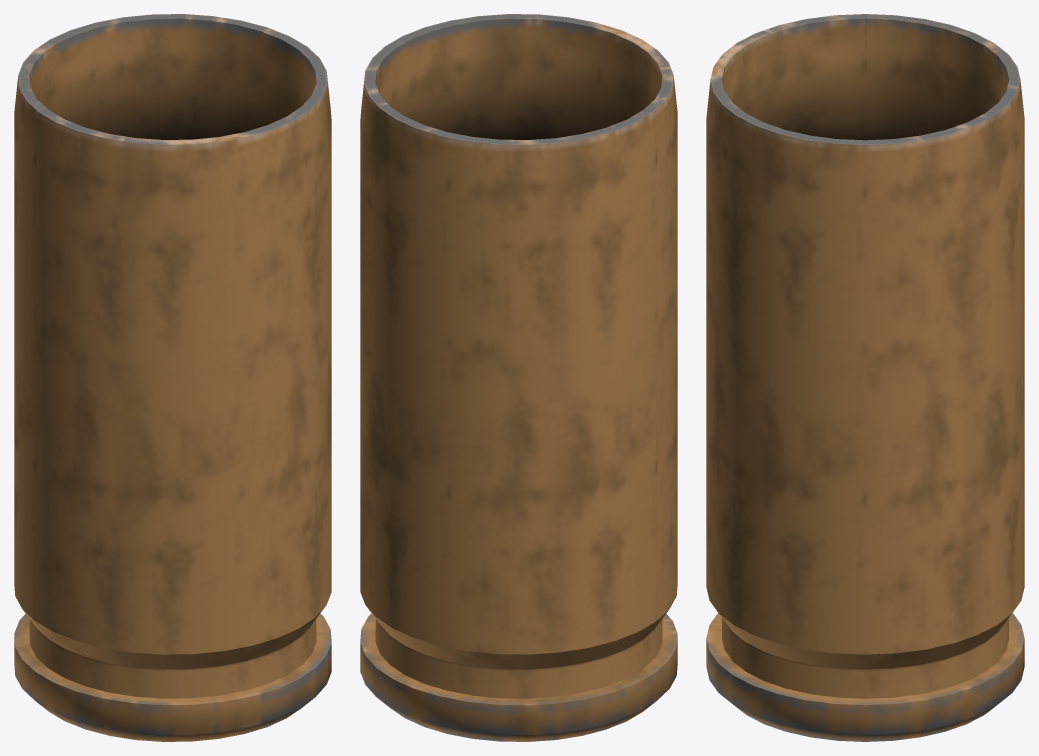
The model's file is round_9mms.glb.
3 renders of one model, left to right at view 1: azimuth 30°, elevation 25°; view 2: azimuth 150°, elevation 25°; view 3: azimuth 270°, elevation 25°, orthographic.
Parts seen in each view (by area): view 1: Round; view 2: Round; view 3: Round.
Part boxes in pixels (left/top/right/bottom): Round: left=14, top=14, right=331, bottom=741; Round: left=360, top=14, right=677, bottom=741; Round: left=706, top=14, right=1024, bottom=741.
Size of the model in its own units: 0.0091 by 0.019 by 0.0091.
1 material, 1 textured.
